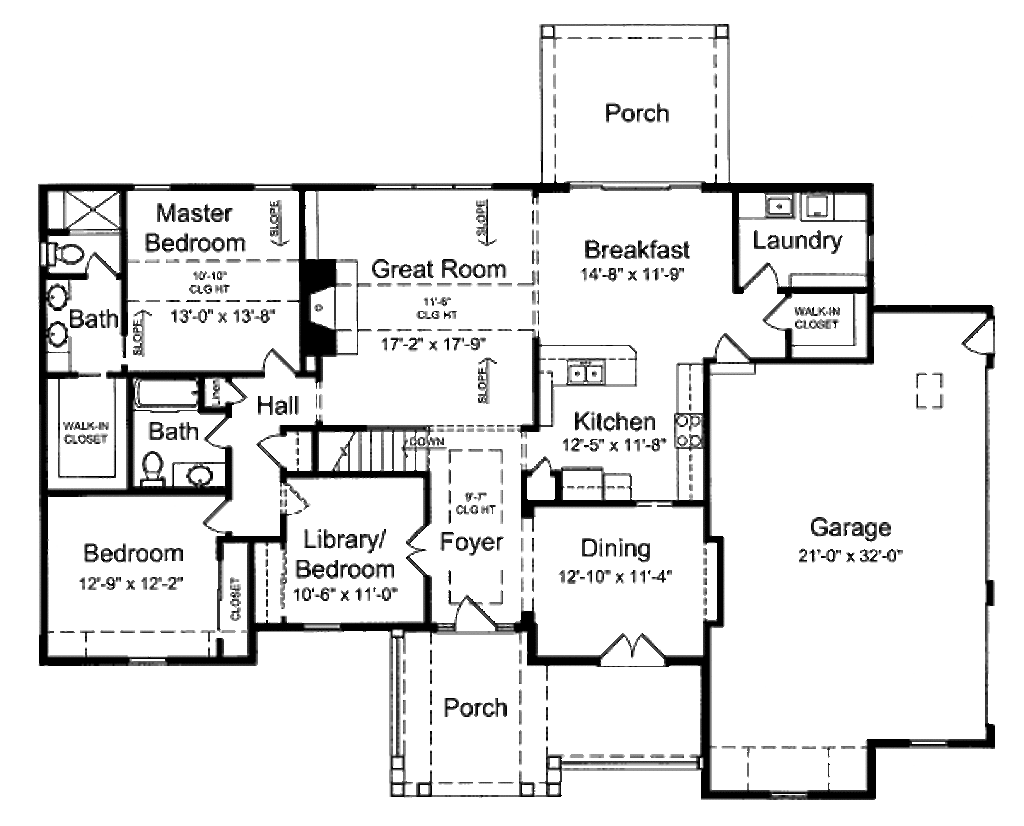door: (601, 628, 677, 676), (445, 589, 502, 633), (393, 522, 433, 582), (713, 332, 761, 380), (960, 309, 1000, 362), (740, 255, 790, 294), (197, 491, 236, 539), (257, 345, 307, 380), (757, 291, 795, 332), (256, 427, 292, 468), (278, 474, 313, 516), (219, 376, 252, 413), (207, 407, 234, 449), (528, 448, 561, 481)
large_sink: (133, 433, 174, 485), (40, 224, 84, 272)
small_sink: (45, 278, 77, 355), (174, 458, 216, 487)
stairs: (311, 419, 496, 505)
tub: (127, 364, 205, 414)
twin_sink: (555, 340, 637, 399)
window: (377, 178, 495, 199), (298, 610, 350, 632), (129, 178, 178, 199), (770, 786, 818, 804), (250, 180, 302, 196), (897, 732, 961, 742), (124, 653, 165, 668)
